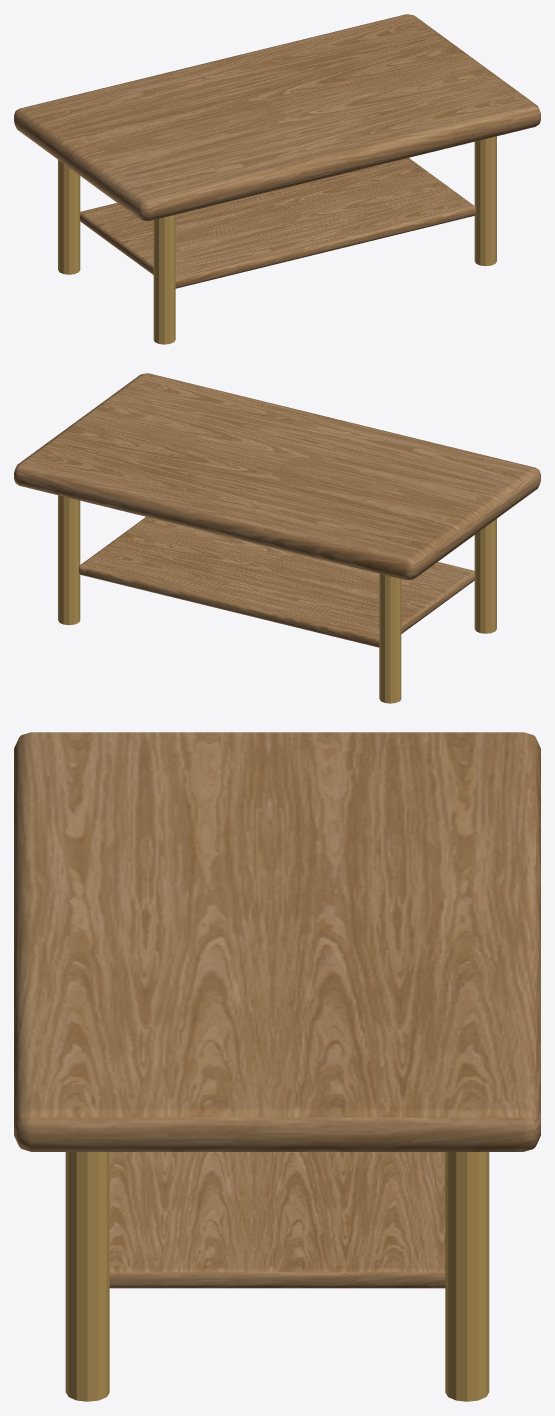
The model's file is centre_table_oak.glb.
3 views of the same model, one above another, from view 1: azimuth 30°, elevation 25°; view 2: azimuth 150°, elevation 25°; view 3: azimuth 270°, elevation 25° (orthographic). The views are drawn at different scales.
Visible parts, largest first — view 1: tabletop, magazine shelf, table leg, table leg.002, table leg.001; view 2: tabletop, magazine shelf, table leg.001, table leg.003, table leg; view 3: tabletop, magazine shelf, table leg.002, table leg.003.
Part boxes in pixels (x1,y1,x2,y2): tabletop: (14, 14, 540, 220); magazine shelf: (80, 158, 475, 288); table leg: (153, 214, 175, 344); table leg.002: (474, 136, 496, 266); table leg.001: (58, 160, 80, 274); tabletop: (14, 373, 540, 579); magazine shelf: (79, 517, 474, 647); table leg.001: (379, 573, 401, 703); table leg.003: (58, 495, 80, 625); table leg: (474, 519, 496, 633); tabletop: (14, 732, 540, 1151); magazine shelf: (109, 1152, 445, 1288); table leg.002: (65, 1152, 109, 1401); table leg.003: (445, 1152, 489, 1401).
Size of the model in its own units: 1.05 by 0.3975 by 0.6.
2 materials, 1 textured.
